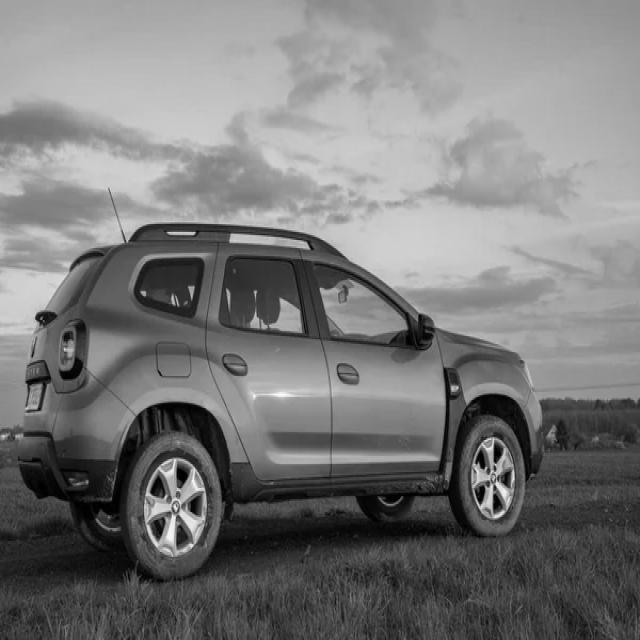Car: (18, 224, 543, 581)
